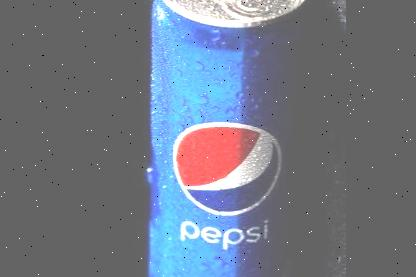Can: (145, 0, 346, 277)
